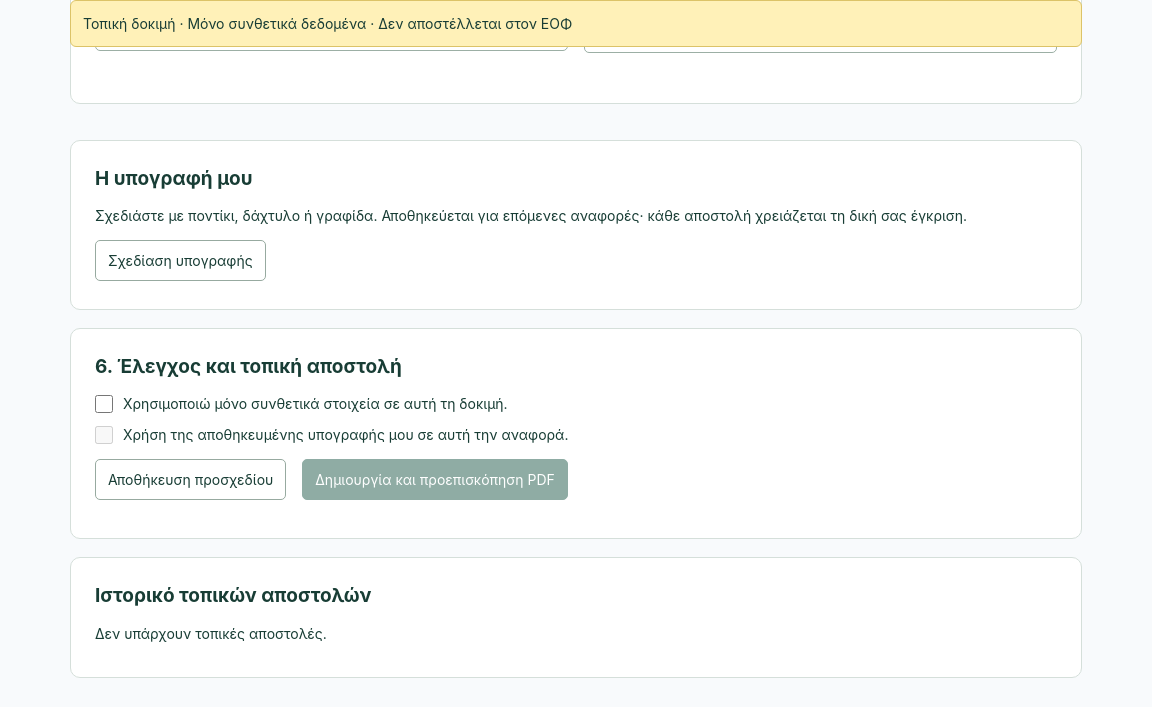
Test: Yellow Card reporter role › saves an imported legacy draft as private pharmacist at its revision
(page scrolled)
Click the button "Αποθήκευση προσχεδίου" at (191,480), box [95,459,286,500]
(page scrolled)
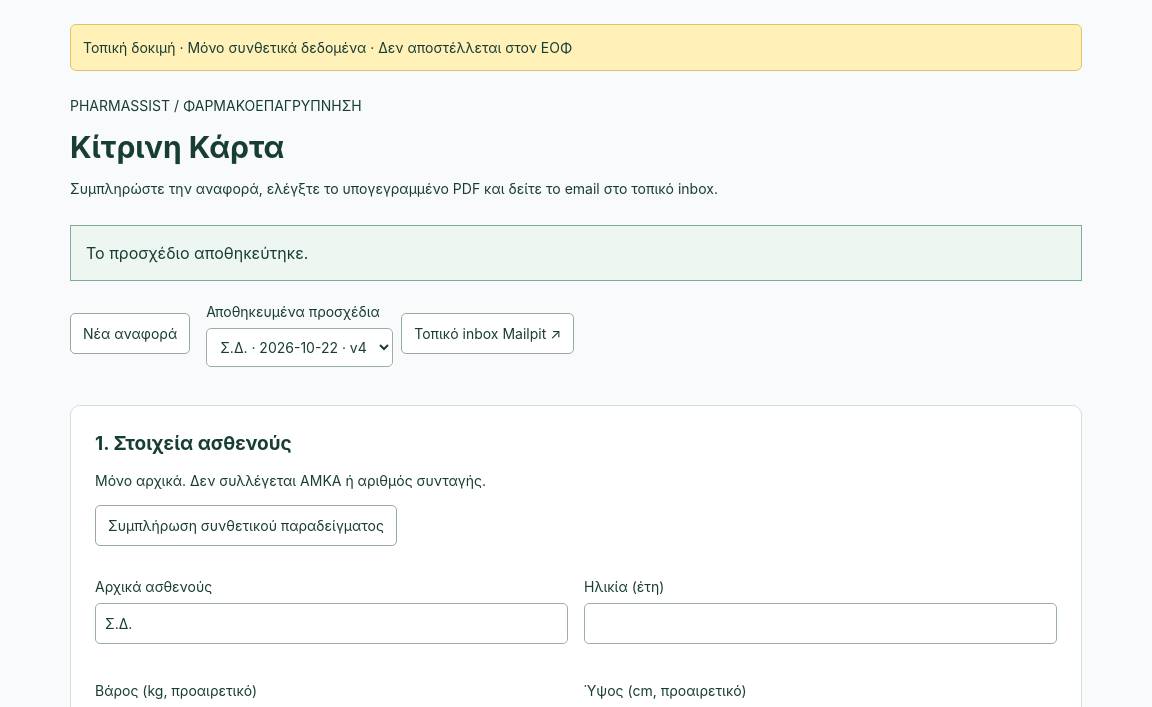
Result: the text "Το προσχέδιο αποθηκεύτηκε." is shown at [70,225,1082,281]
